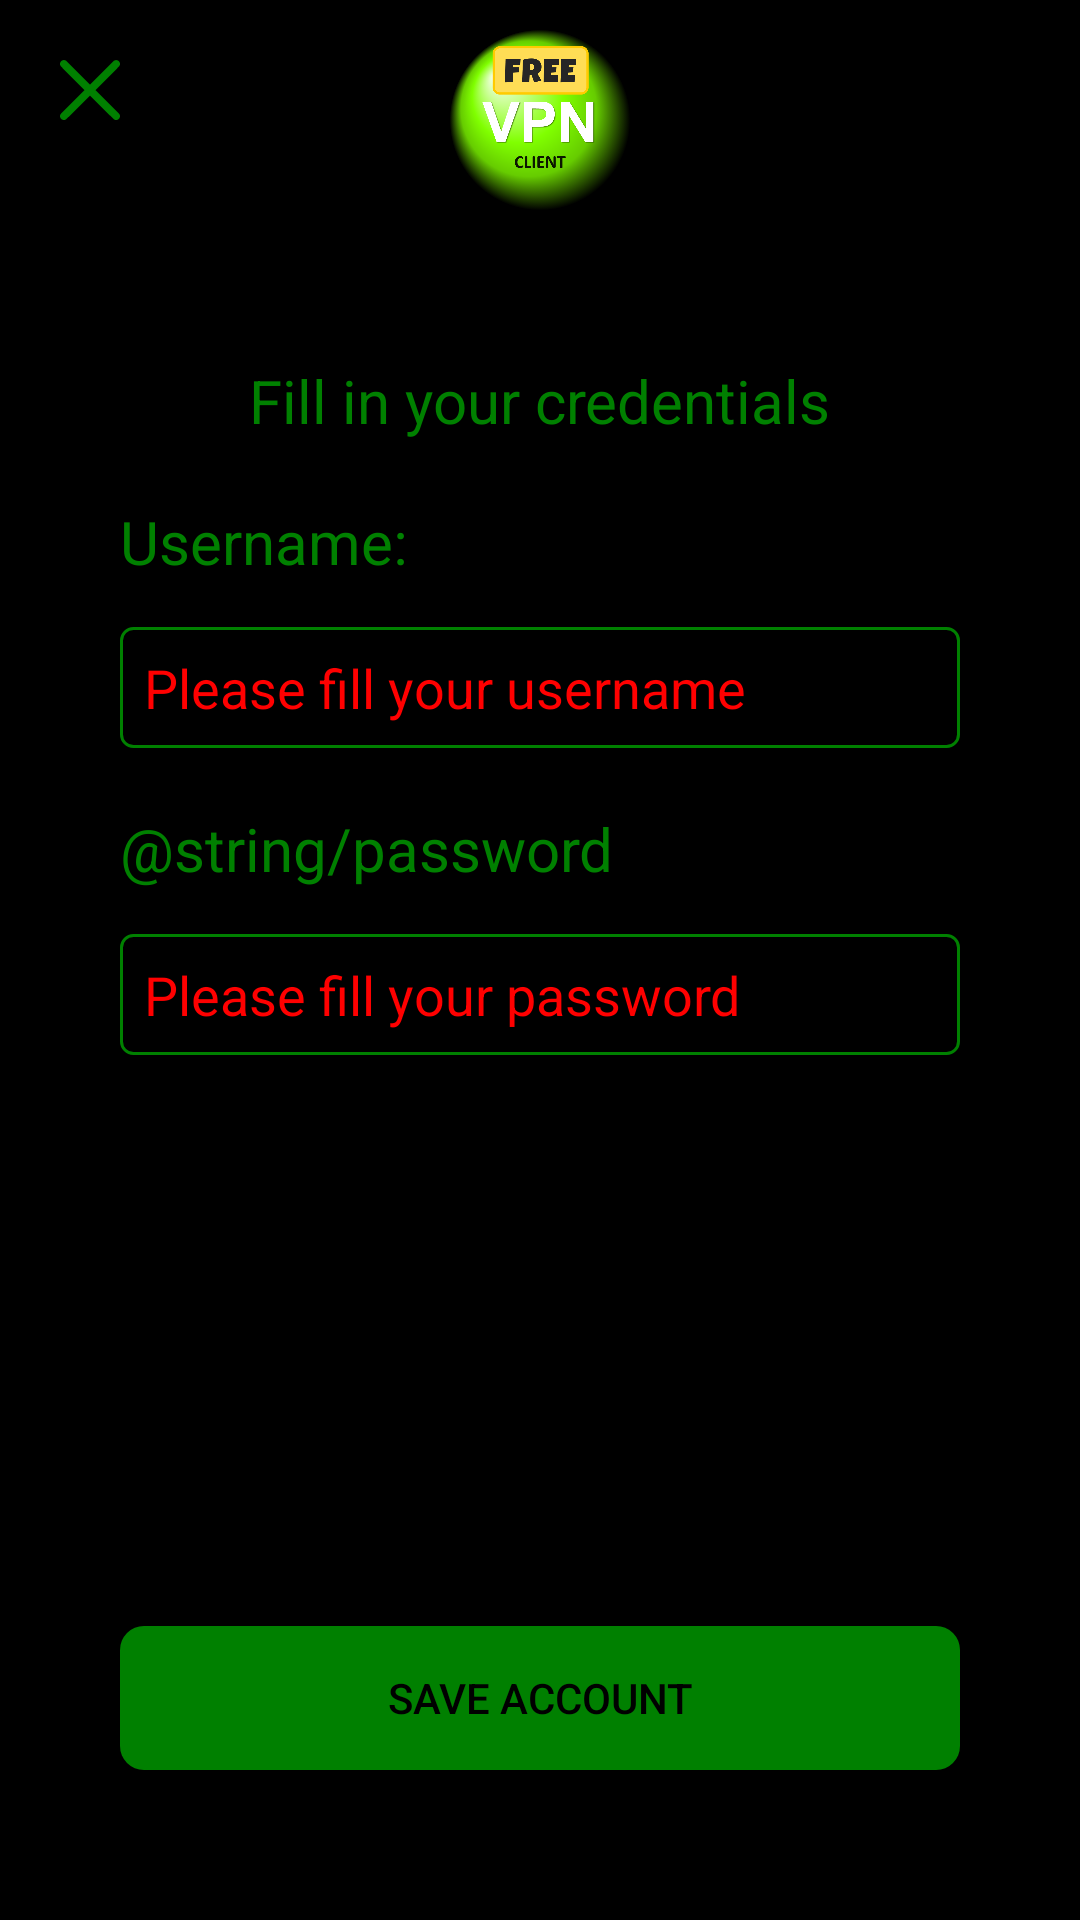

Icons on this 1080px x 1920px Android screen, each with its box as (left=x1, top=y1, right=x2, bottom=y2):
close: (left=60, top=60, right=120, bottom=120)
